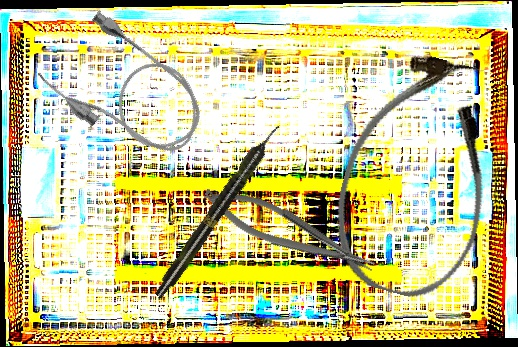Cannula: (318, 42, 518, 310), (30, 2, 222, 179)
Handpiece: (150, 120, 286, 302)
Needle Holder: (197, 173, 380, 291)
